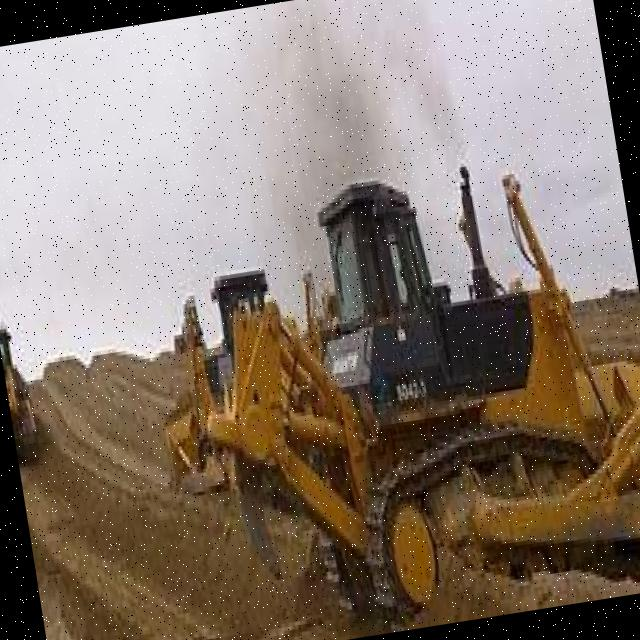Bulldozer: (148, 114, 640, 640)
